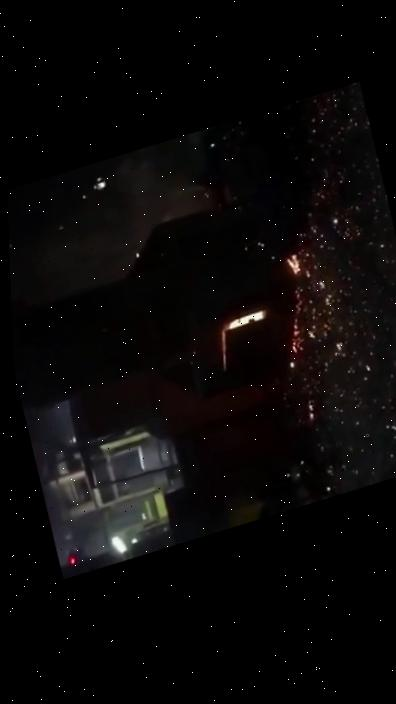fire: (196, 238, 350, 426)
